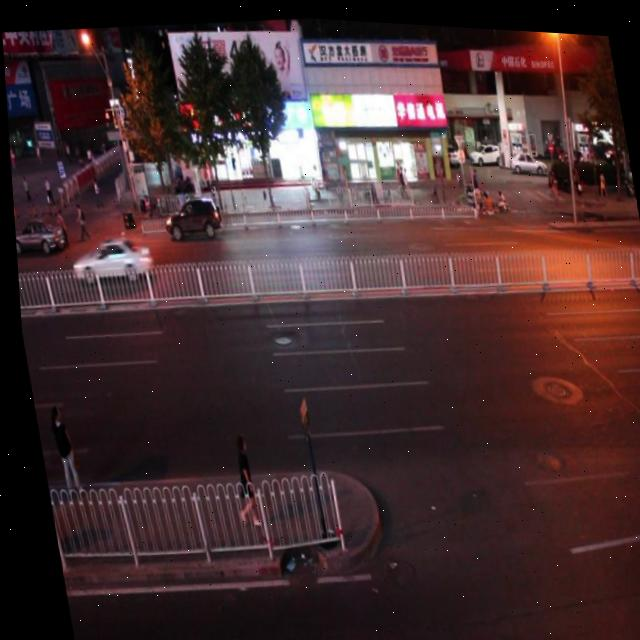car: (63, 229, 154, 289), (157, 181, 223, 242), (11, 209, 68, 259)
